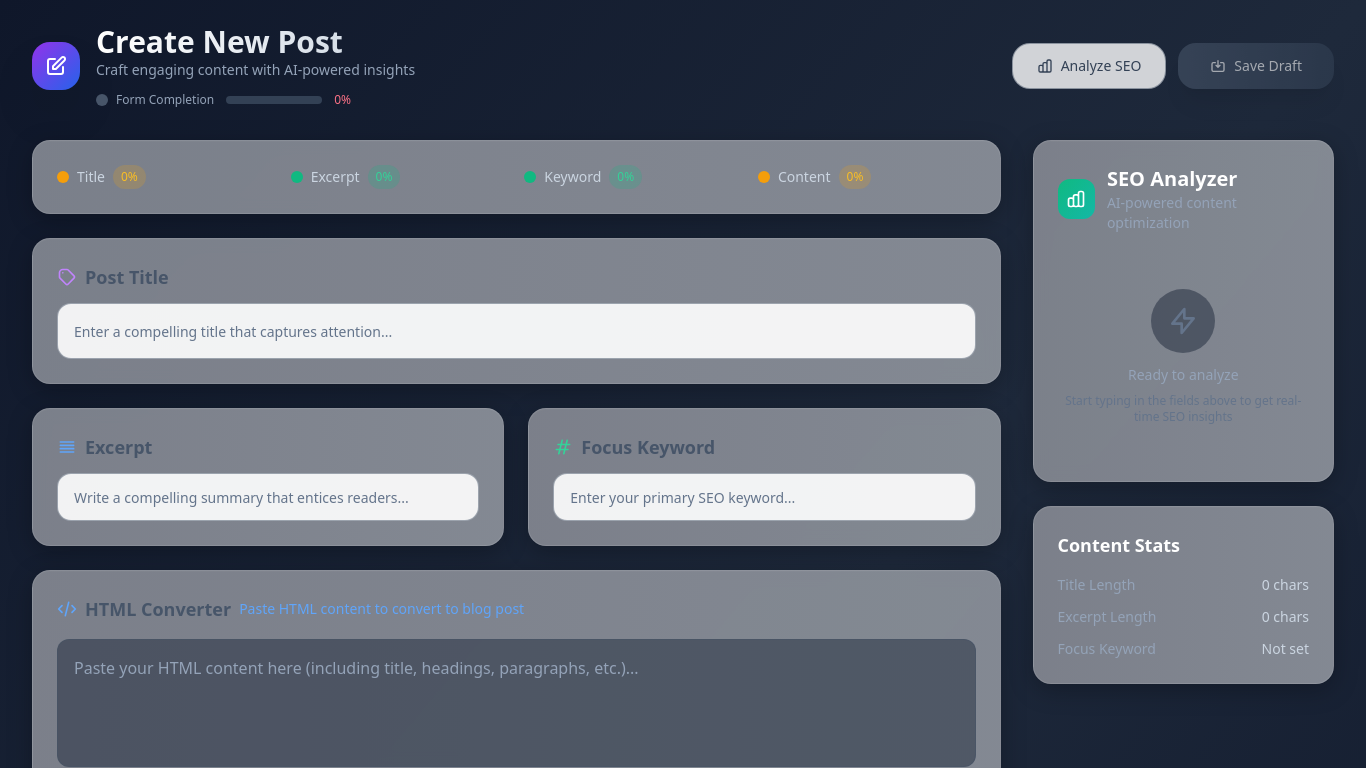
Test: Editor - HTML Converter Feature › handles HTML content with special characters
The width and height of the screenshot is (1366, 768).
Replace the text in the text box with placeholder "Paste your HTML content here" with "       <h1>Title with \"quotes\" & symbols</h1>       <p>Content with <a href=\"http://example.com\">links</a> and <code>code</code>.</p>     " at (516, 703), box [57,639,976,767]
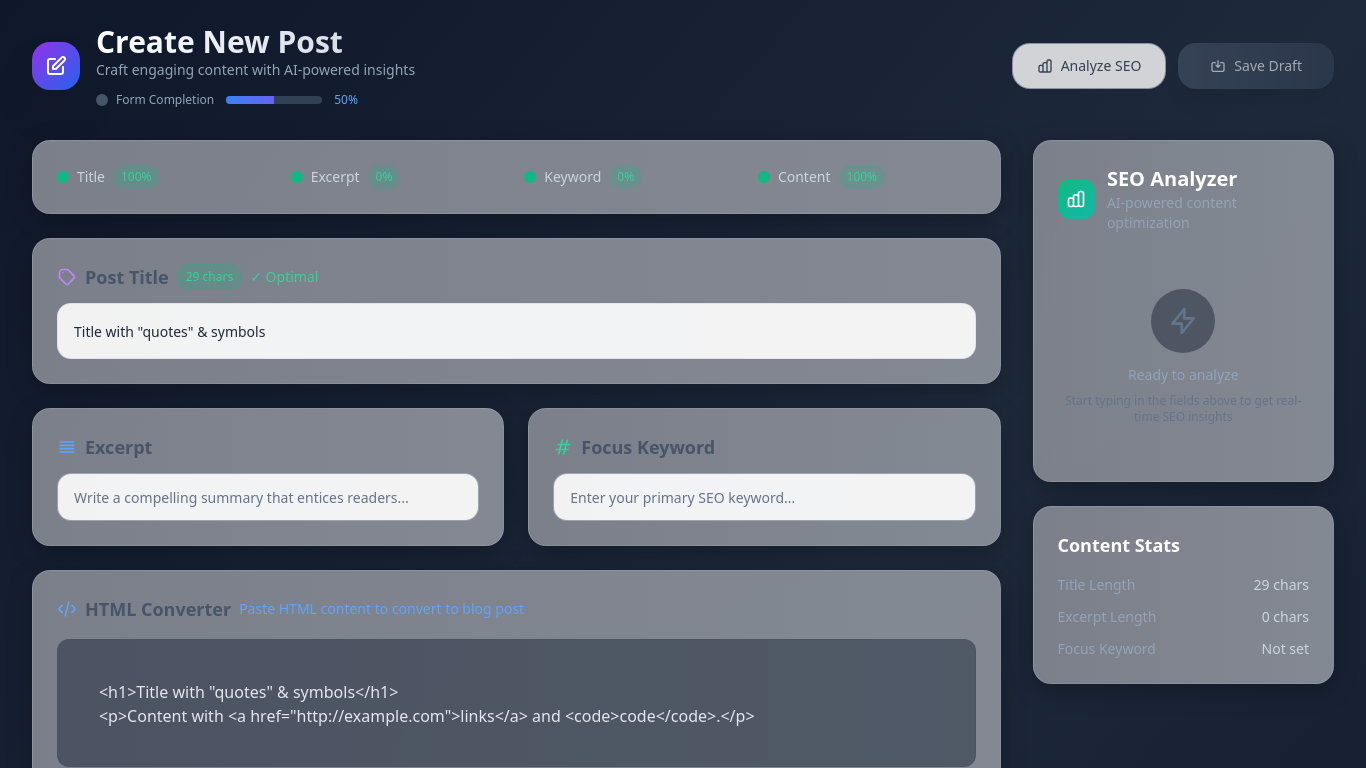
Result: the field showing "Title with \"quotes\" & symbols" is shown at [57,303,976,359]
